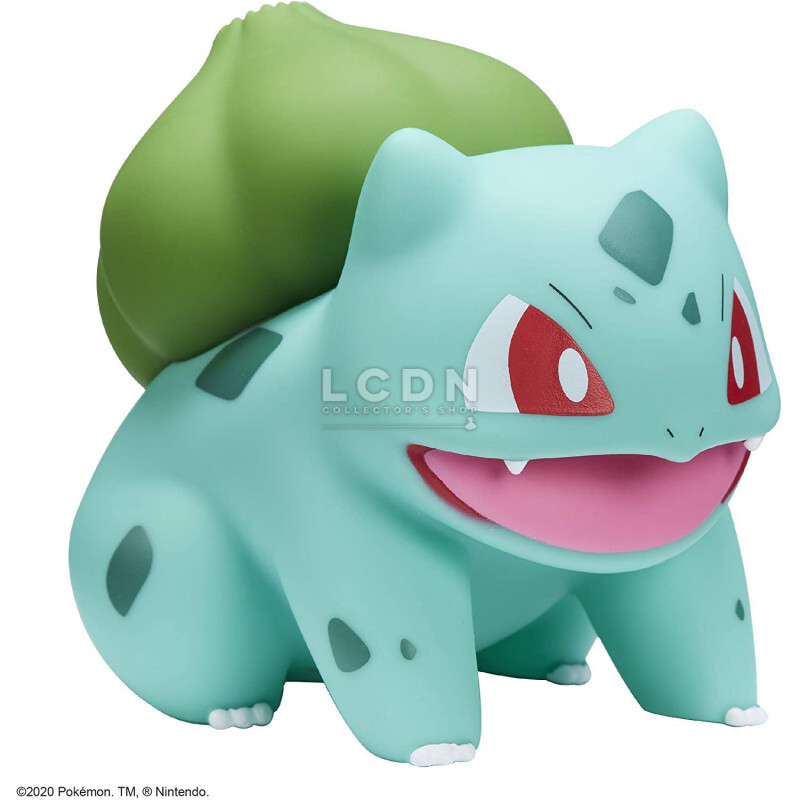001-bulbasaur: (41, 13, 794, 749)
